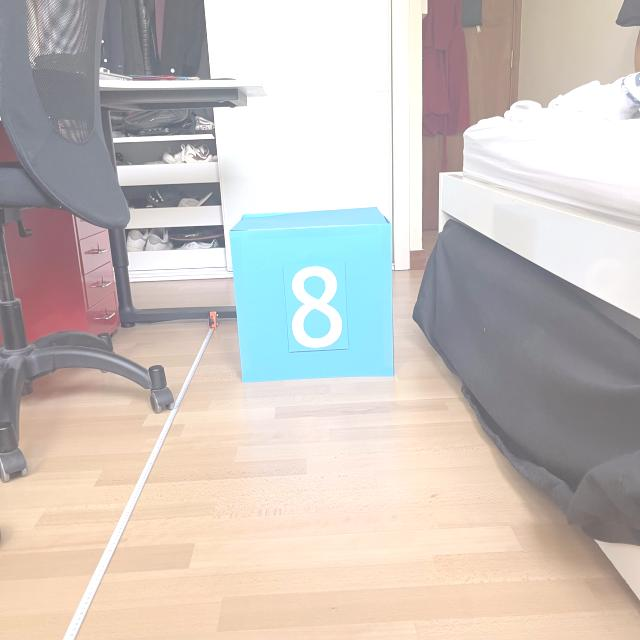box: (225, 202, 398, 384)
